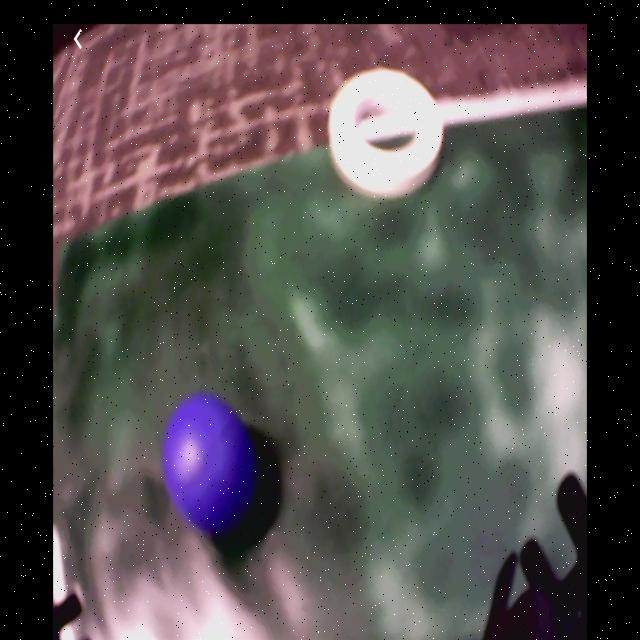ball: (165, 396, 256, 536)
